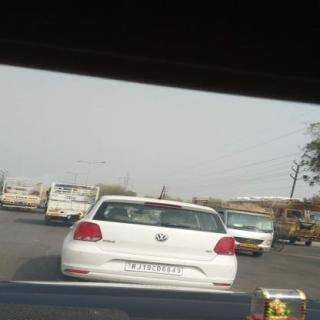Normal_vehicle: (62, 195, 237, 289)
